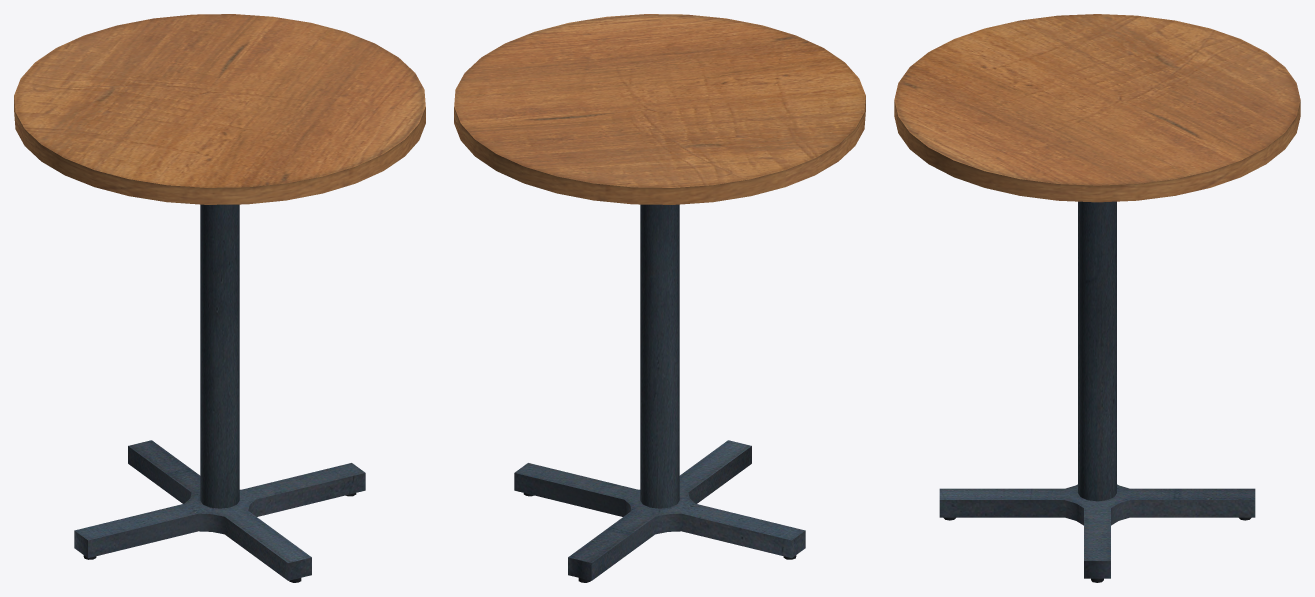
File: table.obj
The picture shows the model from 3 angles, left to right: view 1: azimuth 30°, elevation 25°; view 2: azimuth 150°, elevation 25°; view 3: azimuth 270°, elevation 25°; orthographic projection.
Visible parts, largest first — view 1: Mesh_0.003; view 2: Mesh_0.003; view 3: Mesh_0.003.
Boxes of the visible parts, x1,y1,x2,y2 form: Mesh_0.003: [14, 14, 425, 582]; Mesh_0.003: [454, 14, 865, 582]; Mesh_0.003: [894, 14, 1300, 582].
Size of the model in its own units: 44 by 49.95 by 44.
